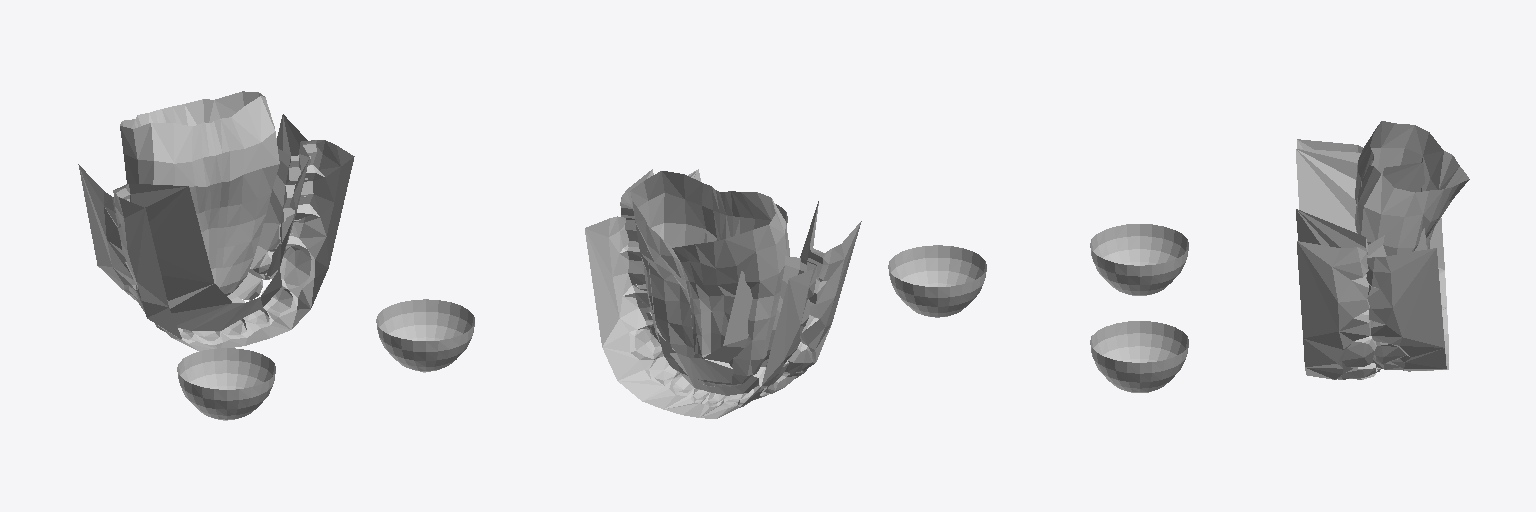
Rendered from teef_000_u_0.obj.
The picture shows the model from 3 angles: view 1: azimuth 30°, elevation 25°; view 2: azimuth 150°, elevation 25°; view 3: azimuth 270°, elevation 25°; orthographic projection.
Bounding box in the file's own units: 0.0956 × 0.0699 × 0.1102.